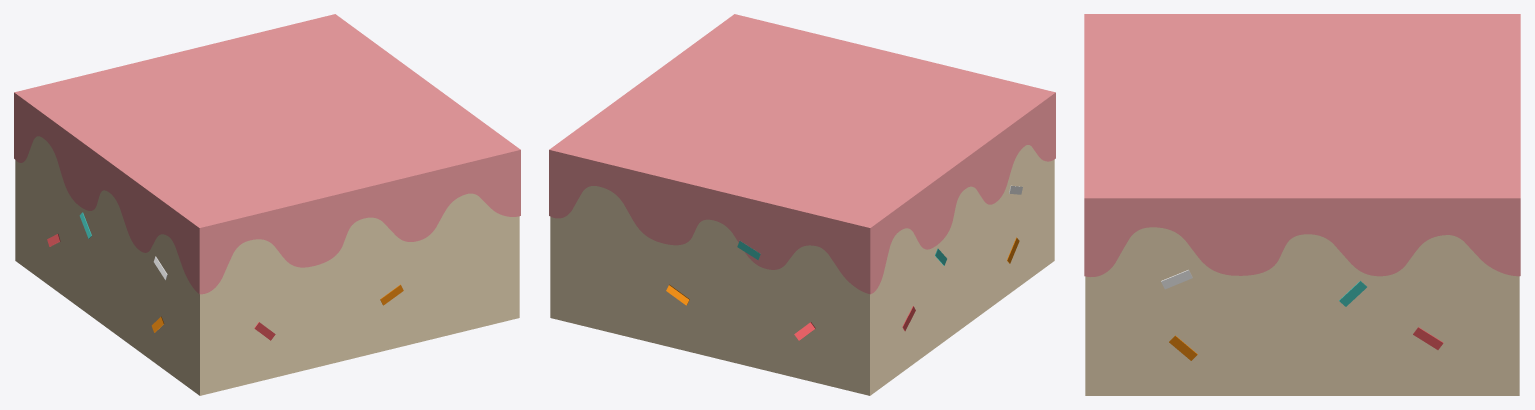
File: dangao_min.obj
3 views of the same model, side by side, from view 1: azimuth 30°, elevation 25°; view 2: azimuth 150°, elevation 25°; view 3: azimuth 270°, elevation 25° (orthographic). The views are drawn at different scales.
Parts seen in each view (by area): view 1: hegai, heshen, heding; view 2: hegai, heshen, heding; view 3: hegai, heshen, heding.
Part boxes in pixels (<box>): hegai: <box>14,14,520,244</box>; heshen: <box>15,136,519,395</box>; heding: <box>14,98,520,294</box>; hegai: <box>549,14,1055,244</box>; heshen: <box>550,145,1054,395</box>; heding: <box>549,94,1055,294</box>; hegai: <box>1084,14,1520,218</box>; heshen: <box>1085,227,1519,395</box>; heding: <box>1084,198,1520,276</box>.
Size of the model in its own units: 10.01 by 5.01 by 10.
